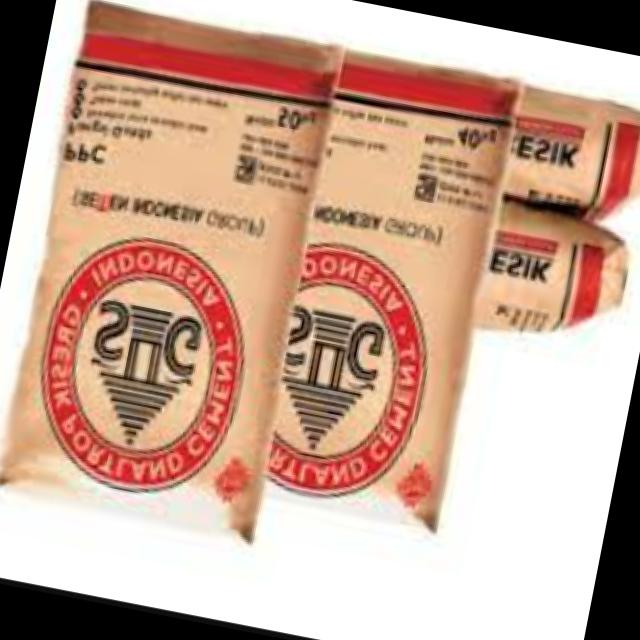KantongSemen: (0, 0, 347, 544), (249, 42, 522, 540), (461, 78, 640, 365)
